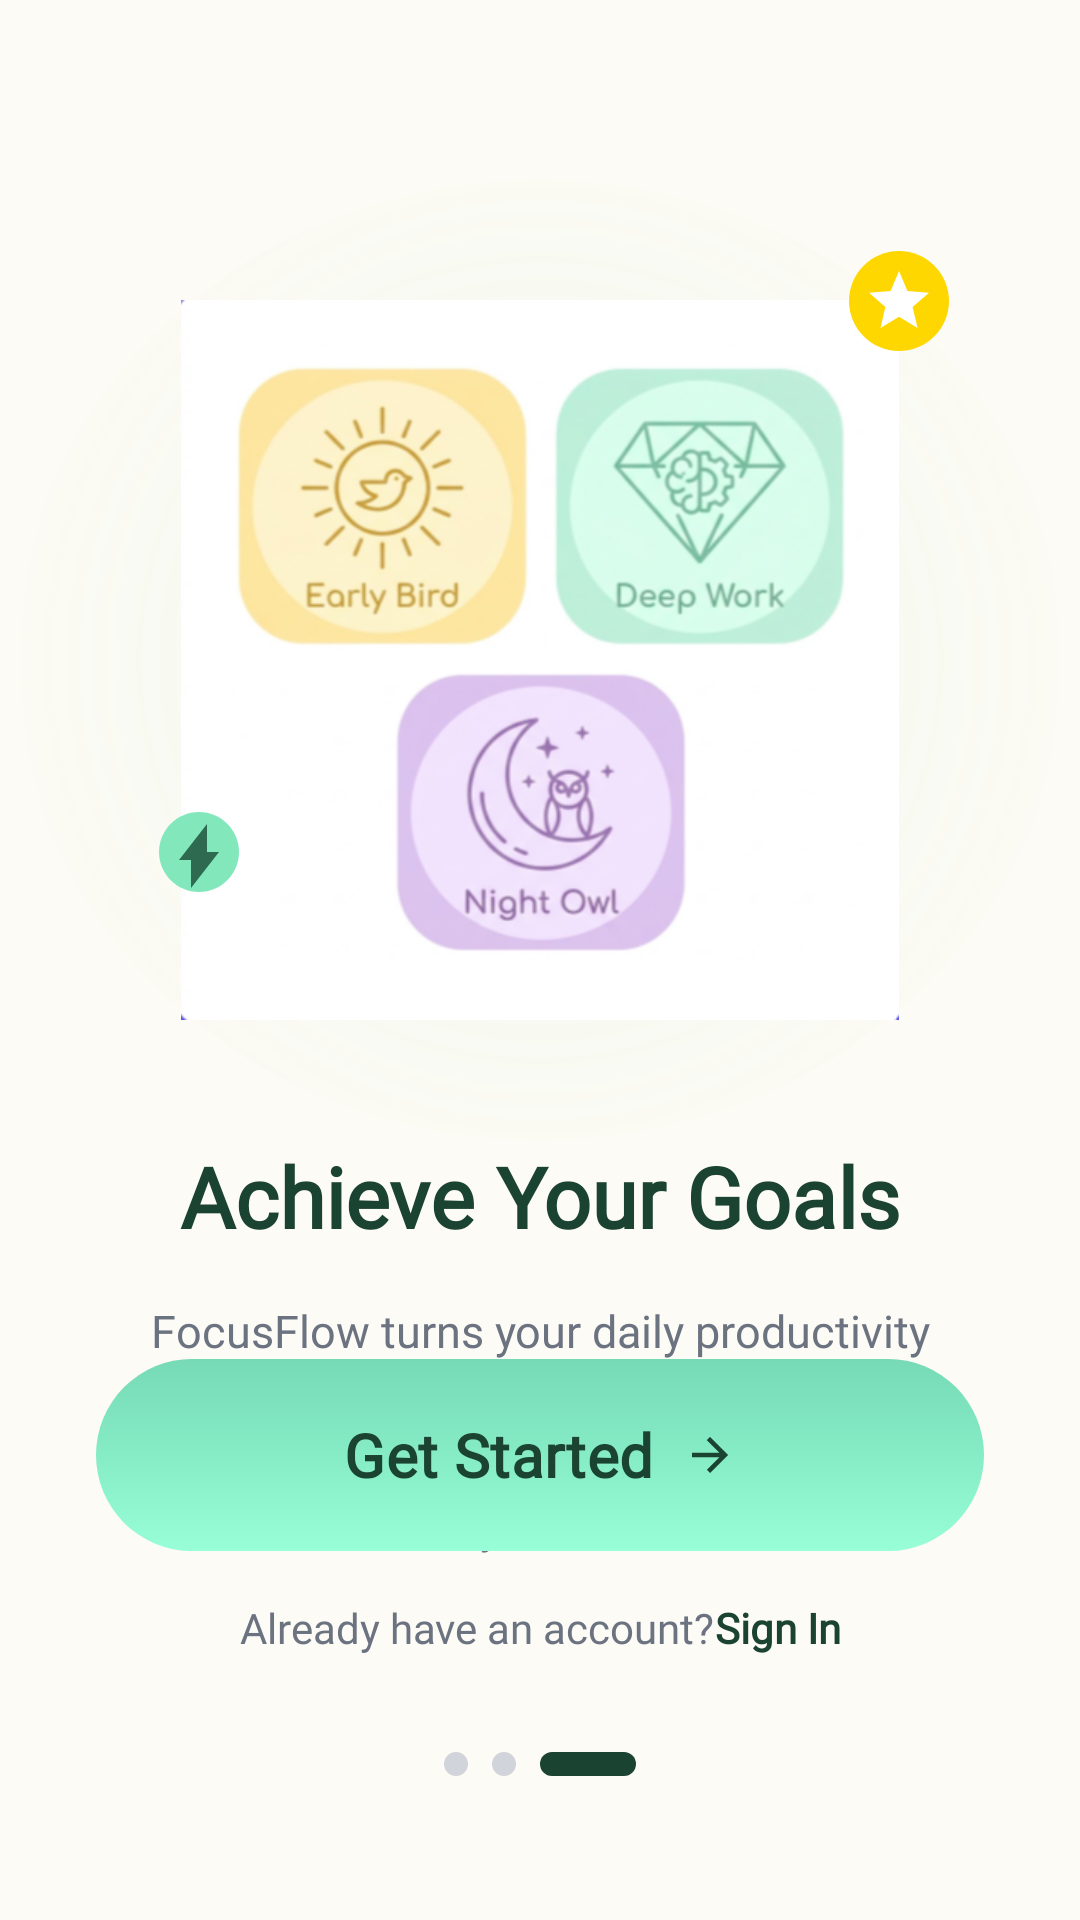

Named icons in this screenshot (1080 x 1920) and their bounding boxes, (x1, y1, x2, y2):
indicator: (540, 1752, 636, 1776)
star floating: (849, 251, 949, 351)
